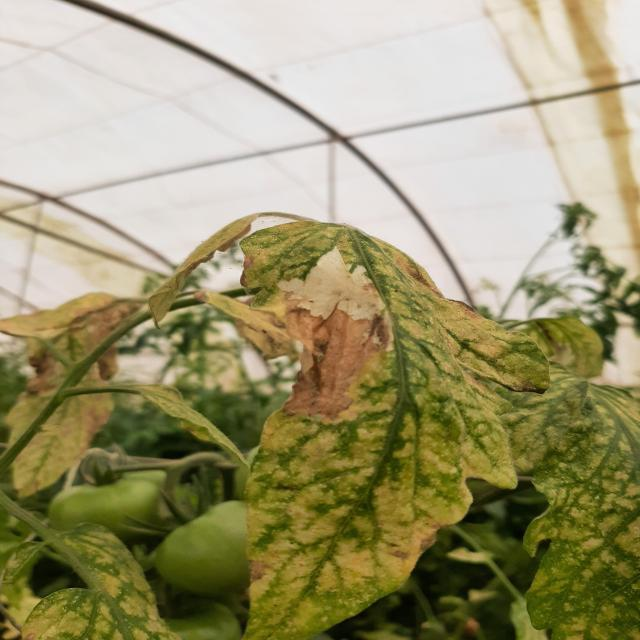Tuta absoluta: (277, 239, 390, 352)
